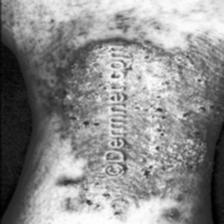Non-Cancerous Skin Condition: (127, 51, 213, 182), (44, 48, 102, 207)
